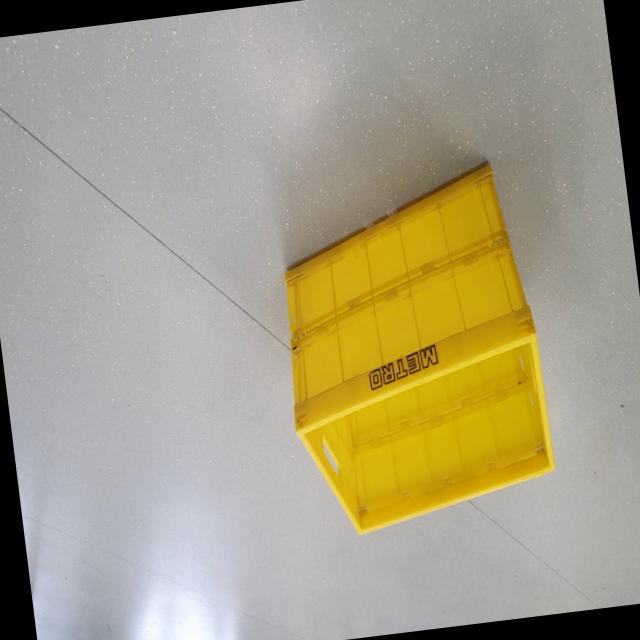box: (256, 135, 578, 580)
